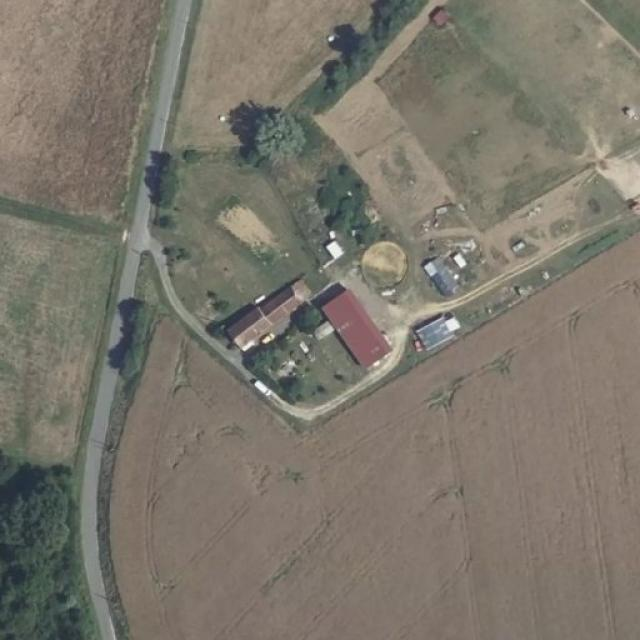ferme: (322, 273, 391, 369)
maison: (227, 268, 308, 355)
